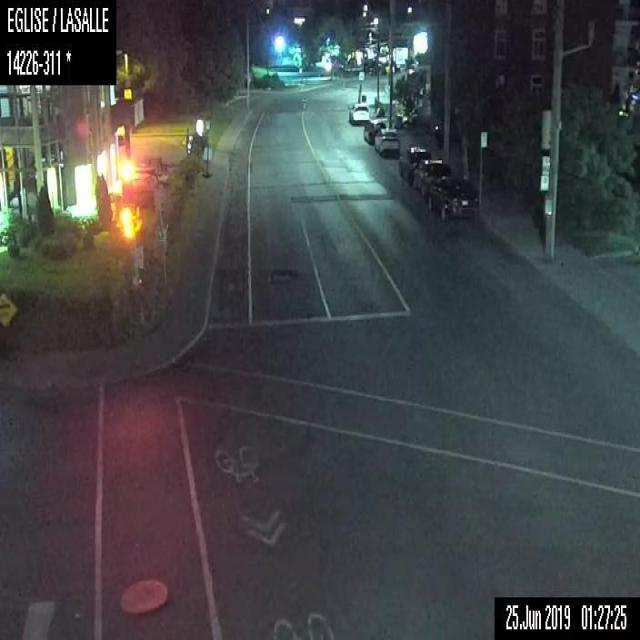vehicle: (427, 176, 479, 219), (412, 158, 449, 194), (396, 144, 427, 182), (362, 116, 388, 144), (374, 128, 398, 154), (347, 102, 370, 125)
